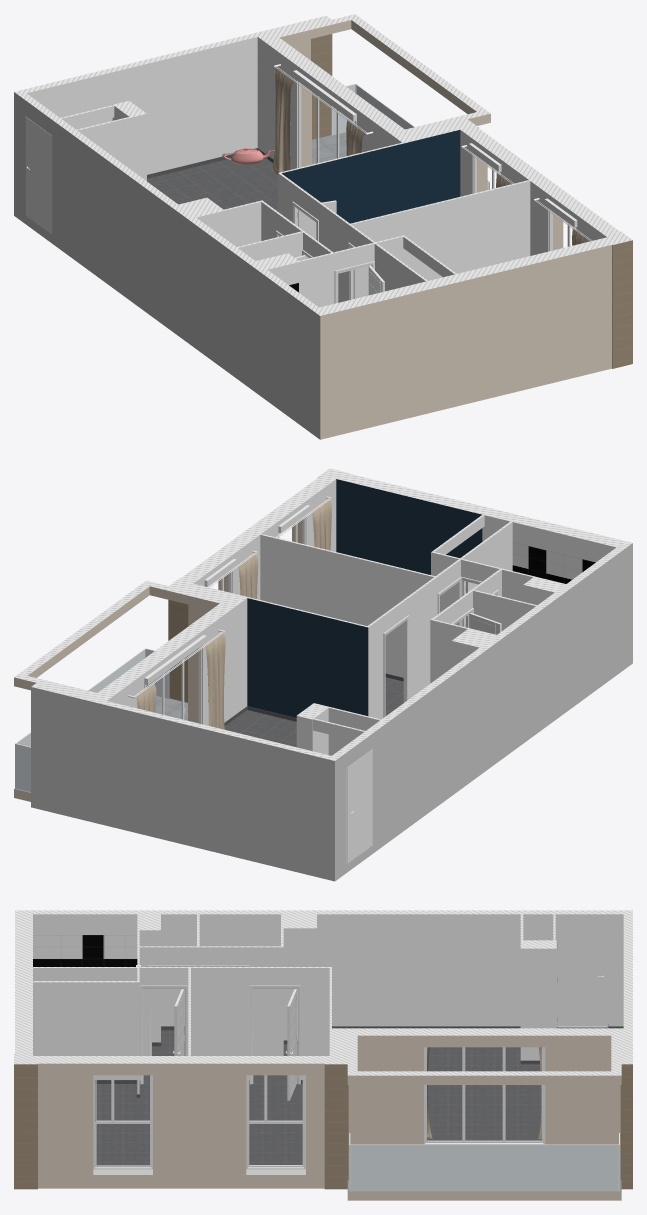
The model's file is t3_a102_location_from_Unity_tagged_2_teapot2.gltf.
3 views of the same model, one above another, from view 1: azimuth 30°, elevation 25°; view 2: azimuth 150°, elevation 25°; view 3: azimuth 270°, elevation 25° (orthographic). The views are drawn at different scales.
Parts seen in each view (by area): view 1: masonry_01, ground_living_01, french_base_window_double_01, door_01, curtain_01, railing_glass_100_01, ground_terrace_01, curtain_bar_01; view 2: masonry_01, door_01, french_base_window_double_01, curtain_01, railing_glass_100_01, ground_living_01, interior_door_frame_01, curtain_03, curtain_02, curtain_bar_01, ground_bed_01; view 3: masonry_01, railing_glass_100_01, ground_living_01, door_01, french_base_window_double_01, ground_bed_02, ground_bed_01, ground_kitchen_01, interior_door_frame_02, interior_door_frame_01, interior_door_panel_01_1, baseboard_kitchen_01 (+2 smaller).
Boxes of the visible parts, left/top/right/bottom form: masonry_01: left=14, top=14, right=632, bottom=439; ground_living_01: left=147, top=158, right=277, bottom=211; french_base_window_double_01: left=293, top=70, right=577, bottom=251; door_01: left=25, top=116, right=52, bottom=234; curtain_01: left=271, top=67, right=364, bottom=174; railing_glass_100_01: left=331, top=83, right=489, bottom=189; ground_terrace_01: left=312, top=132, right=346, bottom=164; curtain_bar_01: left=273, top=64, right=592, bottom=241; masonry_01: left=14, top=468, right=632, bottom=881; door_01: left=346, top=749, right=372, bottom=863; french_base_window_double_01: left=144, top=505, right=310, bottom=724; curtain_01: left=136, top=632, right=225, bottom=729; railing_glass_100_01: left=15, top=648, right=169, bottom=791; ground_living_01: left=224, top=710, right=296, bottom=747; interior_door_frame_01: left=383, top=615, right=408, bottom=717; curtain_03: left=312, top=499, right=331, bottom=550; curtain_02: left=238, top=553, right=258, bottom=598; curtain_bar_01: left=128, top=496, right=331, bottom=698; ground_bed_01: left=385, top=677, right=403, bottom=715; masonry_01: left=14, top=910, right=632, bottom=1200; railing_glass_100_01: left=349, top=1133, right=619, bottom=1191; ground_living_01: left=283, top=1063, right=541, bottom=1140; door_01: left=555, top=930, right=608, bottom=1027; french_base_window_double_01: left=93, top=1047, right=545, bottom=1169; ground_bed_02: left=95, top=1083, right=149, bottom=1165; ground_bed_01: left=249, top=1083, right=302, bottom=1164; ground_kitchen_01: left=284, top=1044, right=520, bottom=1062; interior_door_frame_02: left=139, top=985, right=188, bottom=1084; interior_door_frame_01: left=249, top=985, right=300, bottom=1084; interior_door_panel_01_1: left=287, top=989, right=296, bottom=1100; baseboard_kitchen_01: left=283, top=1026, right=520, bottom=1058.
Size of what is drawn, in the model's own units: 7.71 by 2.7 by 12.12.
Materials: 55 (54 with a texture image).
